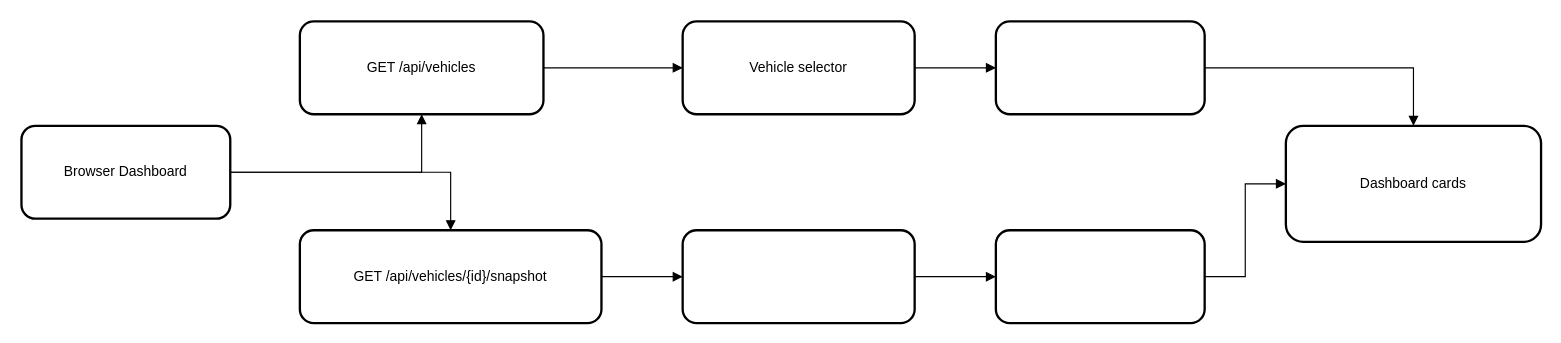
Some shapes in this 1561 by 343 pixel diagram are drawn without their labels. Here are the shapes that lost their labels. From the top down, the centre of each, then its label:
At (x=1099, y=67): "Cloud status".
At (x=798, y=276): "Provider mapping".
At (x=1099, y=276): "Vehicle status".
